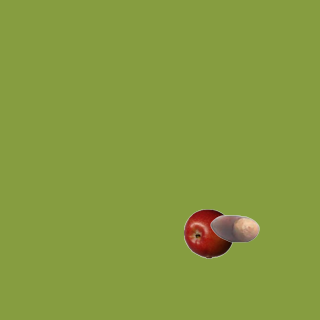Apple Braeburn: (183, 208, 233, 258)
Hazelnut: (209, 203, 259, 253)
